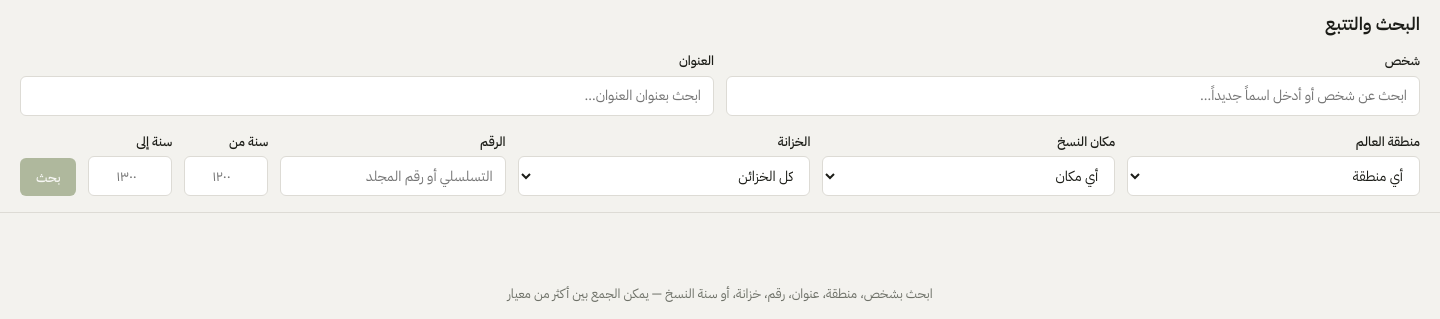
Test: TraceScreen — unified filter panel › disables بحث until at least one filter is entered
expect the button "بحث" is disabled: met, box [20,158,76,196]
Type "رسالة" into the field labelled "العنوان". click: (367, 96)
box: [20,76,714,116]
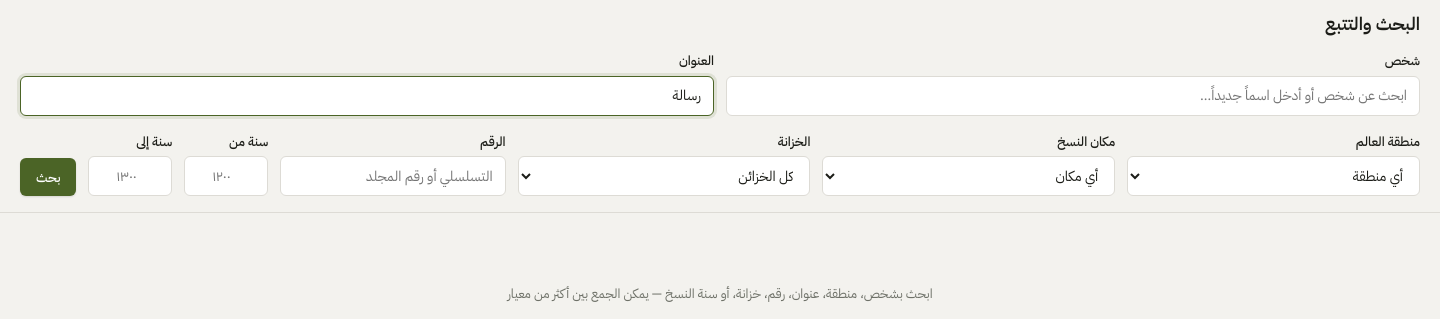
expect the button "بحث" is enabled: met, box [20,158,76,196]
